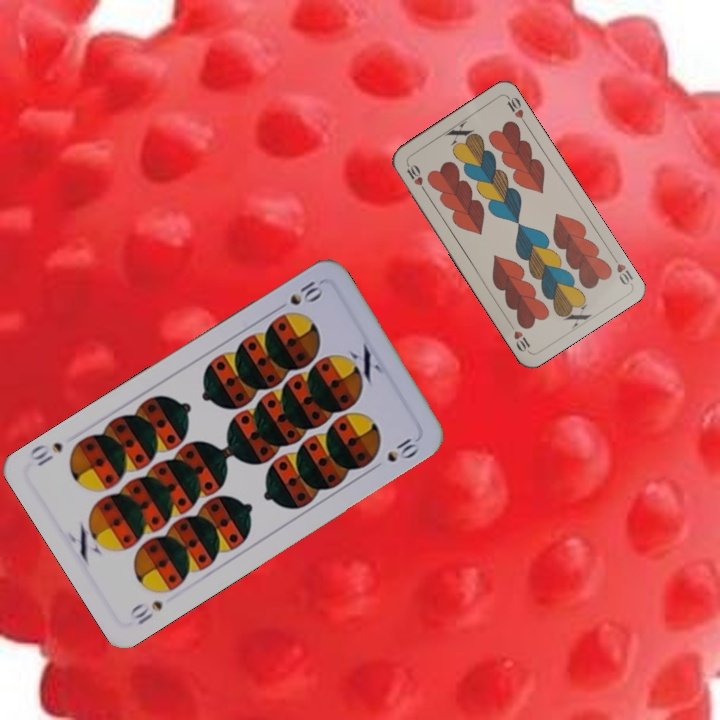H10: (402, 159, 429, 196), (608, 251, 635, 288)
S10: (285, 275, 326, 308), (125, 596, 166, 628)
